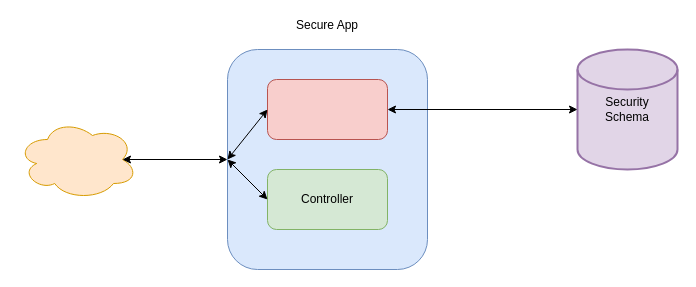
Image size: 696x287. Some labels were removed from this diagram. Here are the shapes that lost their labels. From the top down, the box of each, then its label:
(266, 78, 388, 140): Spring Security Components
(16, 118, 138, 200): Client
